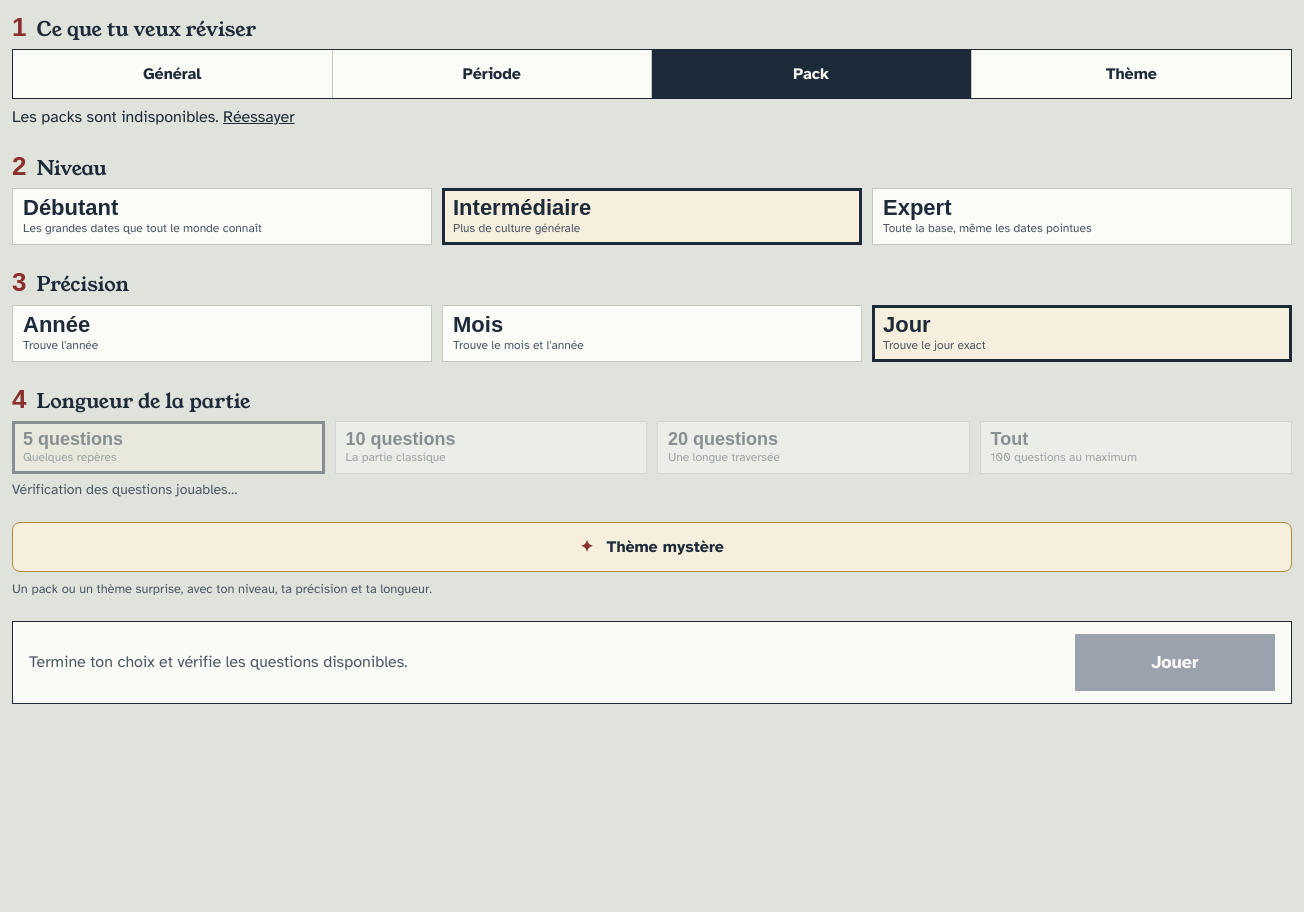
ne confond pas une panne avec un pack supprimé et conserve le choix pendant Réessayer
Expected: the message "Les packs sont indisponibles. Réessayer" is shown, [12,105,295,129]
Expected: the button "Jouer" is disabled, [1075,634,1275,691]
What coordinates should you click on to do the following:
click the button "Réessayer"
I would click on:
 (259, 117)
Its box is [223,105,295,129].
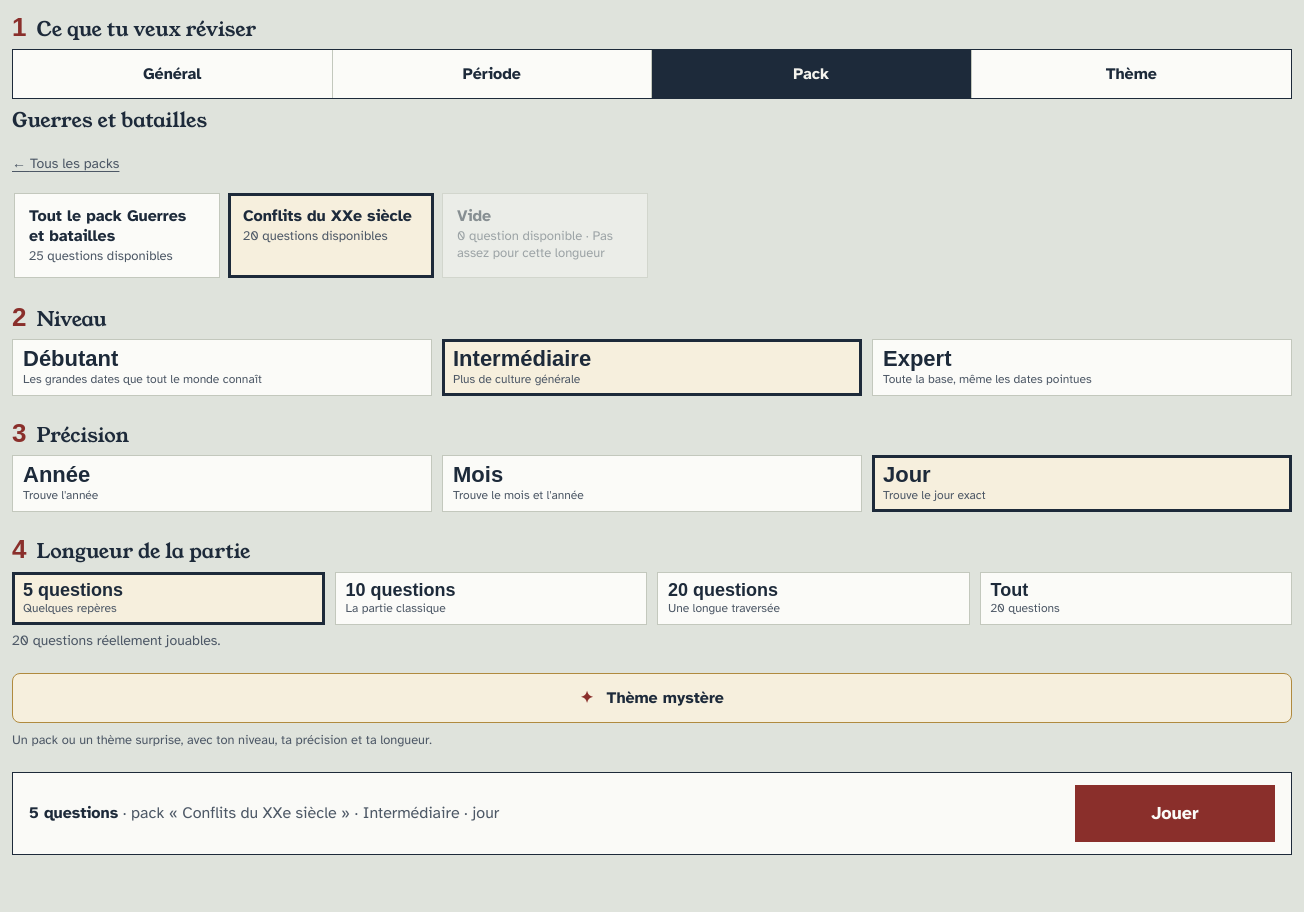
Now the button "Conflits du XXe siècle 20 questions disponibles" is shown, box [228,193,434,278]
Now the button "Jouer" is enabled, box [1075,785,1275,842]
